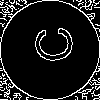C: (25, 25, 74, 65)
